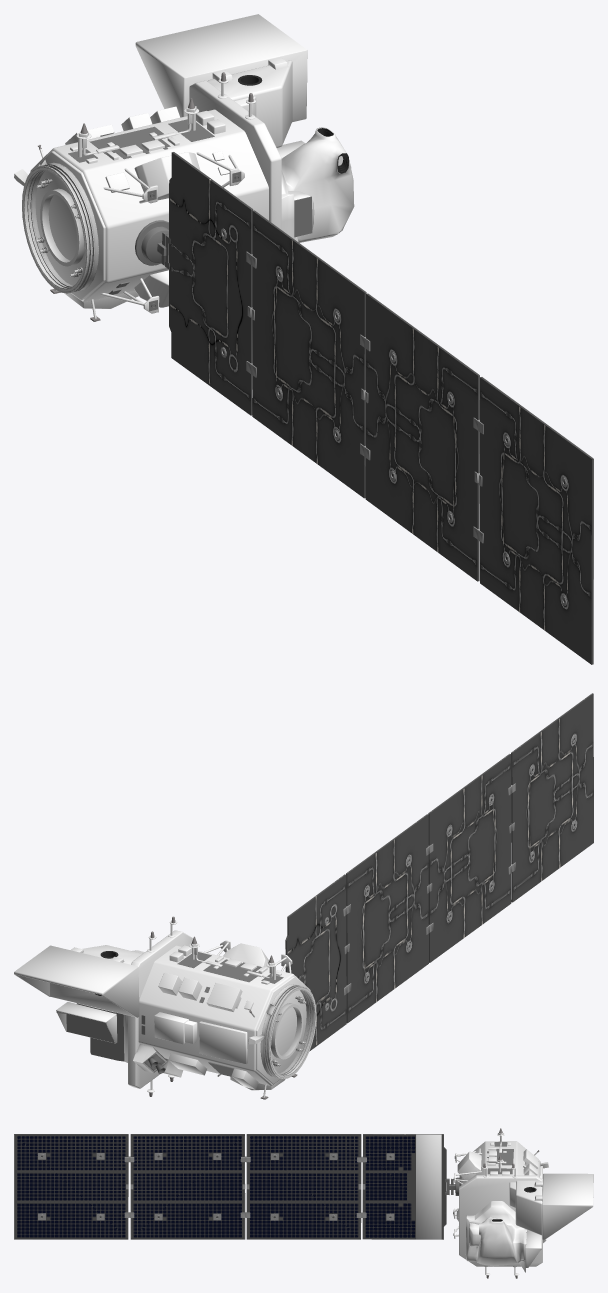
File: Landsat9.glb
3 views of the same model, one above another, from view 1: azimuth 30°, elevation 25°; view 2: azimuth 150°, elevation 25°; view 3: azimuth 270°, elevation 25° (orthographic). The views are drawn at different scales.
Parts seen in each view (by area): view 1: solarPanels, OLI, BUS, BUS_instruments, baked_instruments, solarPanelHinges, BUS_plates, solarPanels_base, solarPanels_gimbal; view 2: solarPanels, BUS, BUS_instruments, OLI, baked_instruments, OLI_plates, BUS_plates, solarPanelHinges; view 3: solarPanels, OLI, BUS, solarPanels_foil, BUS_instruments, solarPanelHinges, BUS_plates, solarPanels_base.
Boxes of the visible parts, x1,y1,x2,y2 form: solarPanels: [169, 152, 593, 664]; OLI: [135, 14, 354, 242]; BUS: [30, 80, 281, 302]; BUS_instruments: [38, 72, 255, 321]; baked_instruments: [14, 159, 98, 293]; solarPanelHinges: [220, 228, 567, 605]; BUS_plates: [68, 119, 214, 294]; solarPanels_base: [100, 152, 244, 313]; solarPanels_gimbal: [135, 220, 170, 269]; solarPanels: [285, 693, 593, 1051]; BUS: [128, 930, 310, 1088]; BUS_instruments: [147, 916, 297, 1099]; OLI: [14, 945, 144, 1062]; baked_instruments: [133, 984, 316, 1079]; OLI_plates: [56, 1003, 124, 1061]; BUS_plates: [141, 952, 283, 1076]; solarPanelHinges: [324, 735, 576, 1010]; solarPanels: [14, 1134, 446, 1239]; OLI: [465, 1173, 593, 1272]; BUS: [459, 1141, 542, 1266]; solarPanels_foil: [416, 1134, 441, 1239]; BUS_instruments: [456, 1128, 542, 1278]; solarPanelHinges: [38, 1153, 394, 1220]; BUS_plates: [459, 1142, 525, 1185]; solarPanels_base: [453, 1151, 481, 1238].
Size of the model in its own units: 5.25 by 3.84 by 17.47.
Materials: 11 (2 with a texture image).
